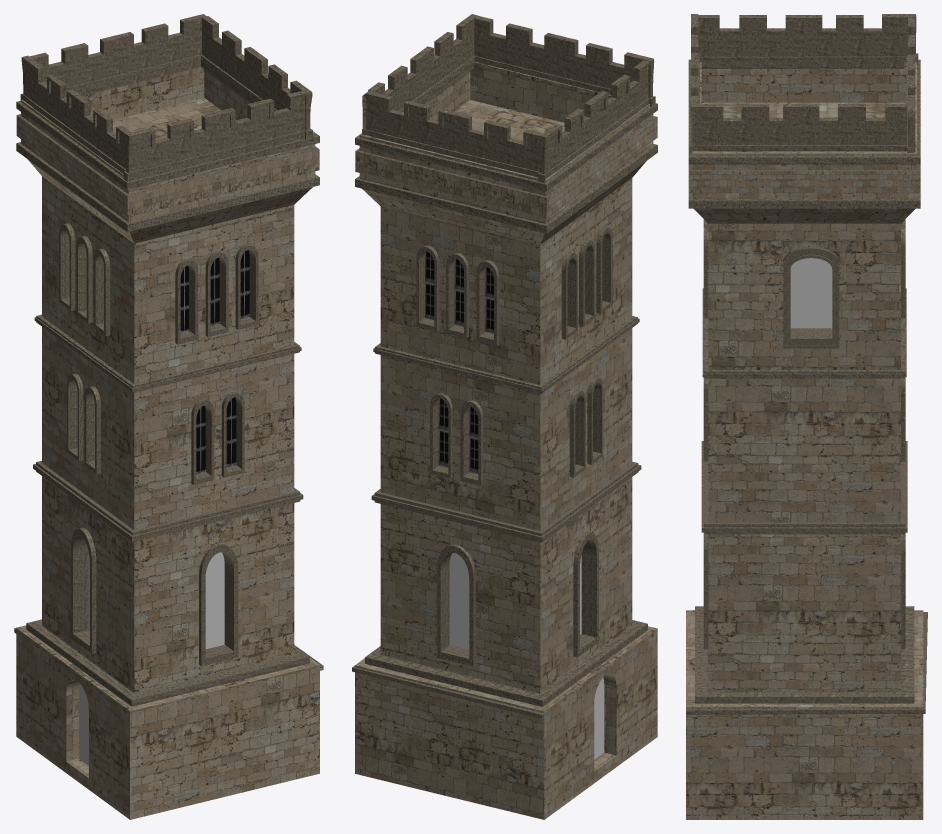
File: objTower.obj
3 views of the same model, side by side, from view 1: azimuth 30°, elevation 25°; view 2: azimuth 150°, elevation 25°; view 3: azimuth 270°, elevation 25° (orthographic). The views are drawn at different scales.
Parts seen in each view (by area): view 1: Tower; view 2: Tower; view 3: Tower.
Part boxes in pixels (left/top/right/bottom): Tower: left=14, top=14, right=323, bottom=819; Tower: left=352, top=14, right=657, bottom=819; Tower: left=686, top=14, right=927, bottom=819.
Size of the model in its own units: 4.1 by 13.7 by 4.22.
